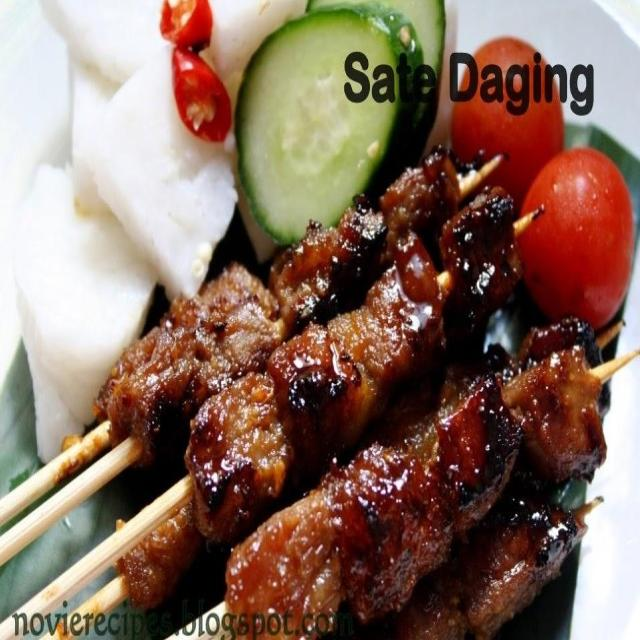Sate: (57, 177, 620, 640)
